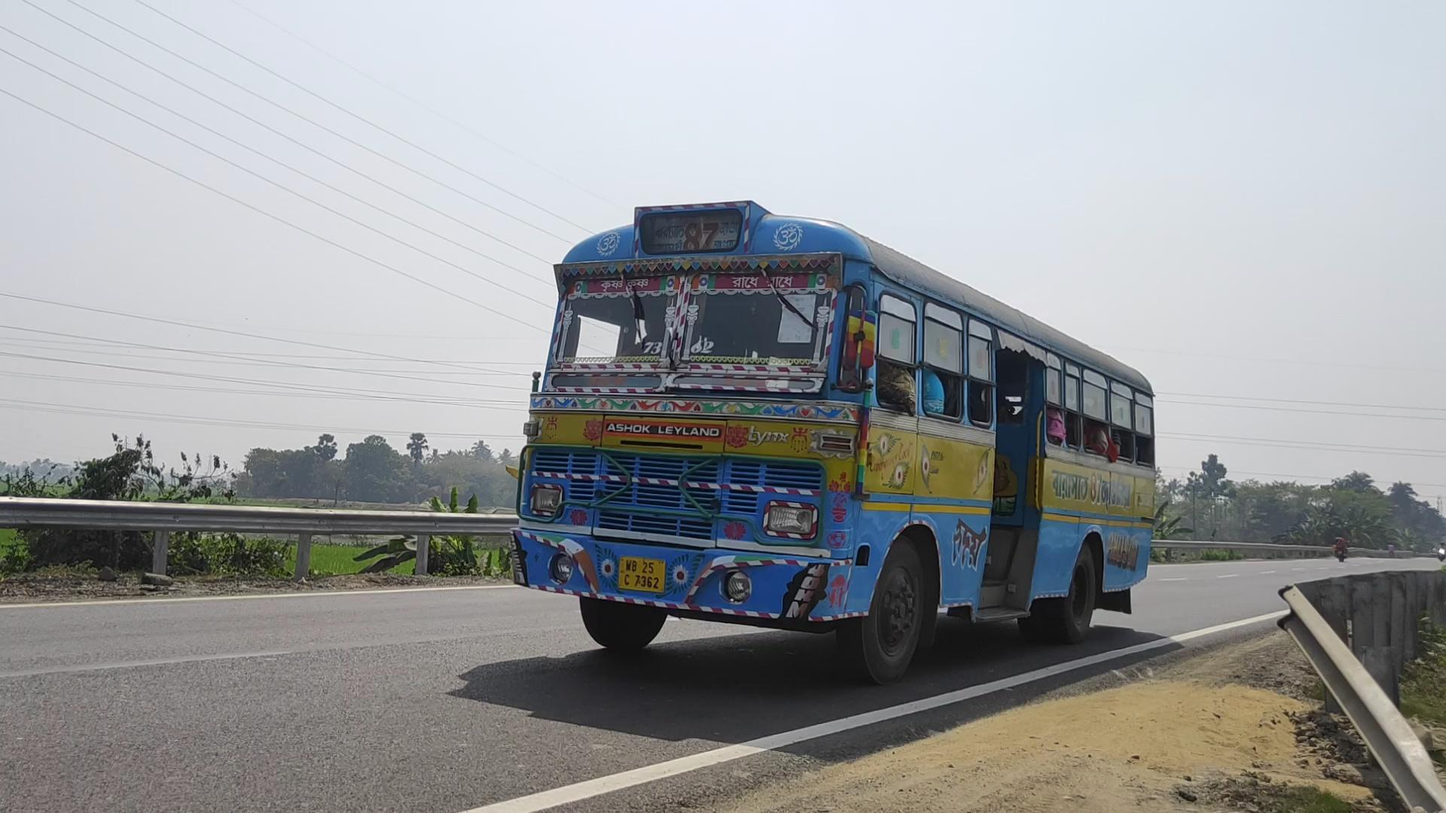Bus: (511, 199, 1156, 687)
